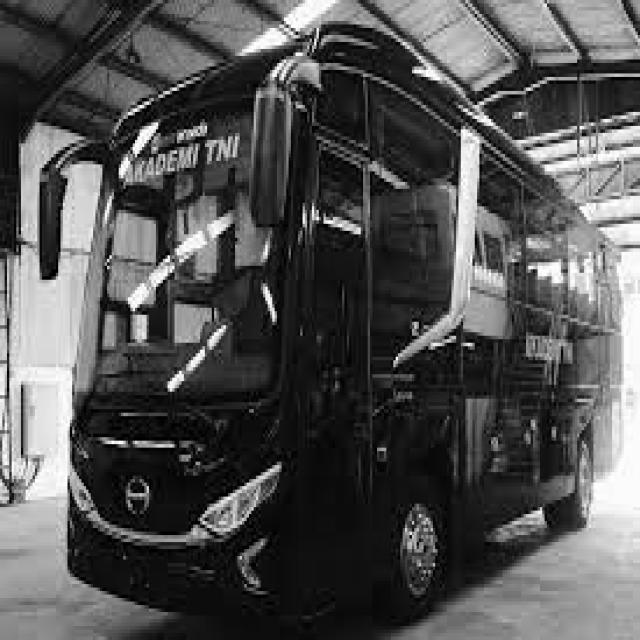Bus: (68, 24, 622, 632)
